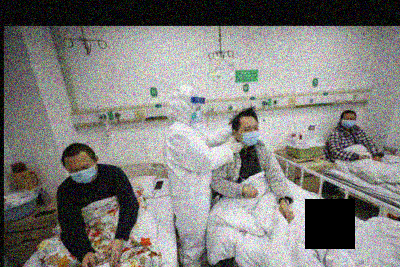with_mask: (65, 160, 95, 183), (239, 122, 260, 148), (190, 104, 204, 125), (342, 114, 355, 127)
